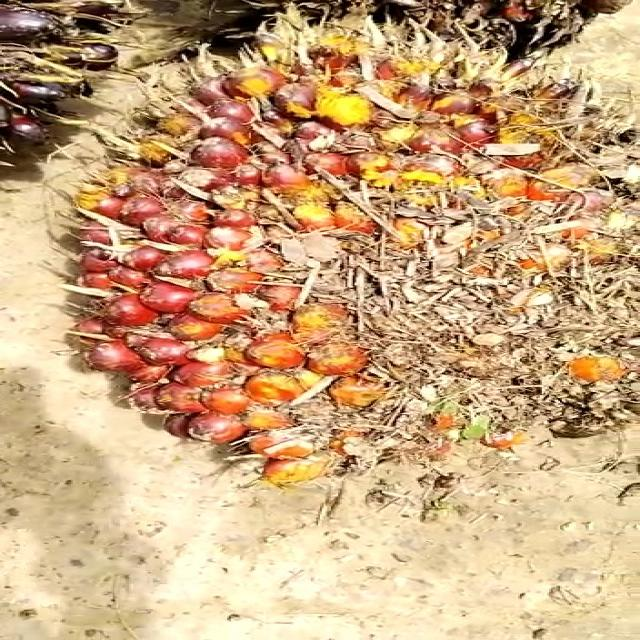palm oil: (66, 10, 640, 489)
